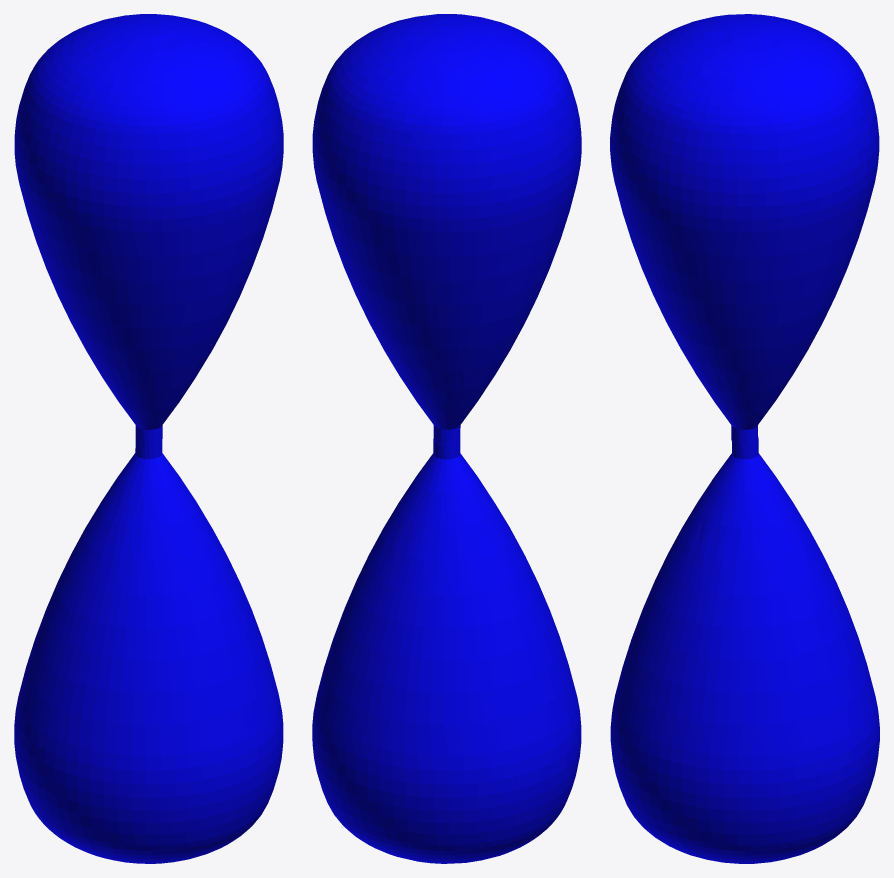
File: Carbono_p.glb
The picture shows the model from 3 angles, left to right: view 1: azimuth 30°, elevation 25°; view 2: azimuth 150°, elevation 25°; view 3: azimuth 270°, elevation 25°; orthographic projection.
Parts seen in each view (by area): view 1: root; view 2: root; view 3: root.
Part boxes in pixels (x1,y1,x2,y2): root: (14, 14, 283, 863); root: (312, 14, 581, 863); root: (610, 14, 879, 863).
Size of the model in its own units: 0.0299 by 0.1 by 0.03.
